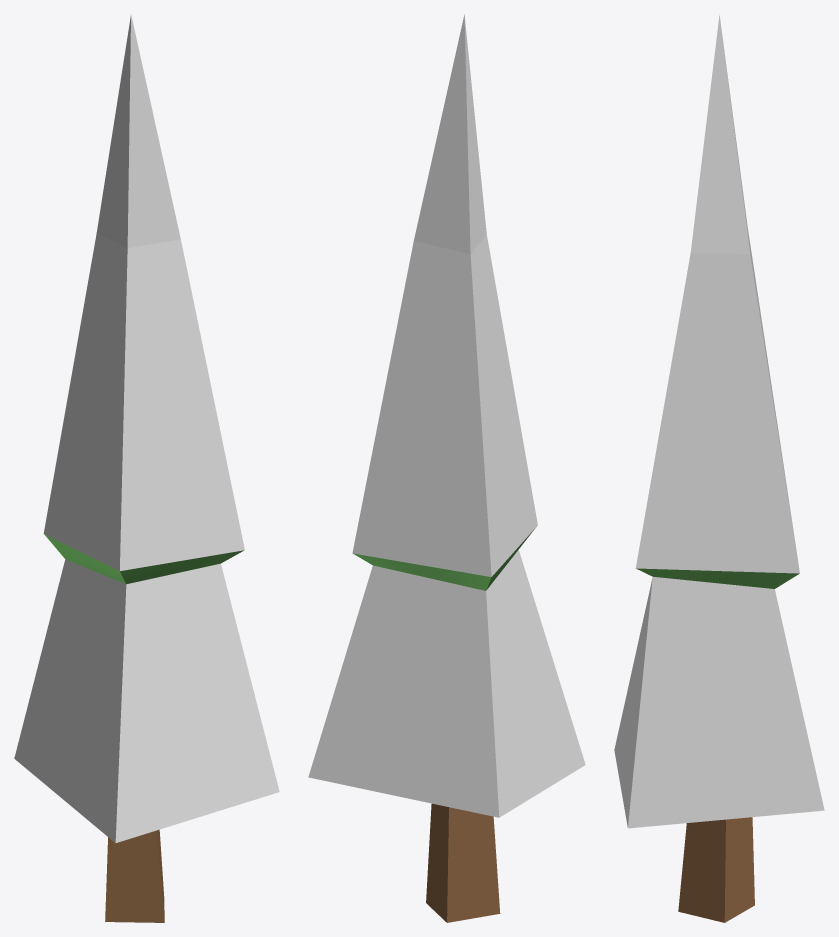
Rendered from Fir_Tree_s_Snow_BT_07.fbx.
3 renders of one model, left to right at view 1: azimuth 30°, elevation 25°; view 2: azimuth 150°, elevation 25°; view 3: azimuth 270°, elevation 25°, orthographic.
Parts seen in each view (by area): view 1: Fir_Tree_s_Snow_BT_07; view 2: Fir_Tree_s_Snow_BT_07; view 3: Fir_Tree_s_Snow_BT_07.
Boxes of the visible parts, bbox=[...] form: Fir_Tree_s_Snow_BT_07: bbox=[14, 14, 279, 922]; Fir_Tree_s_Snow_BT_07: bbox=[308, 14, 585, 922]; Fir_Tree_s_Snow_BT_07: bbox=[614, 14, 824, 922].
Bounding box in the file's own units: 33.97 × 162 × 34.71.
